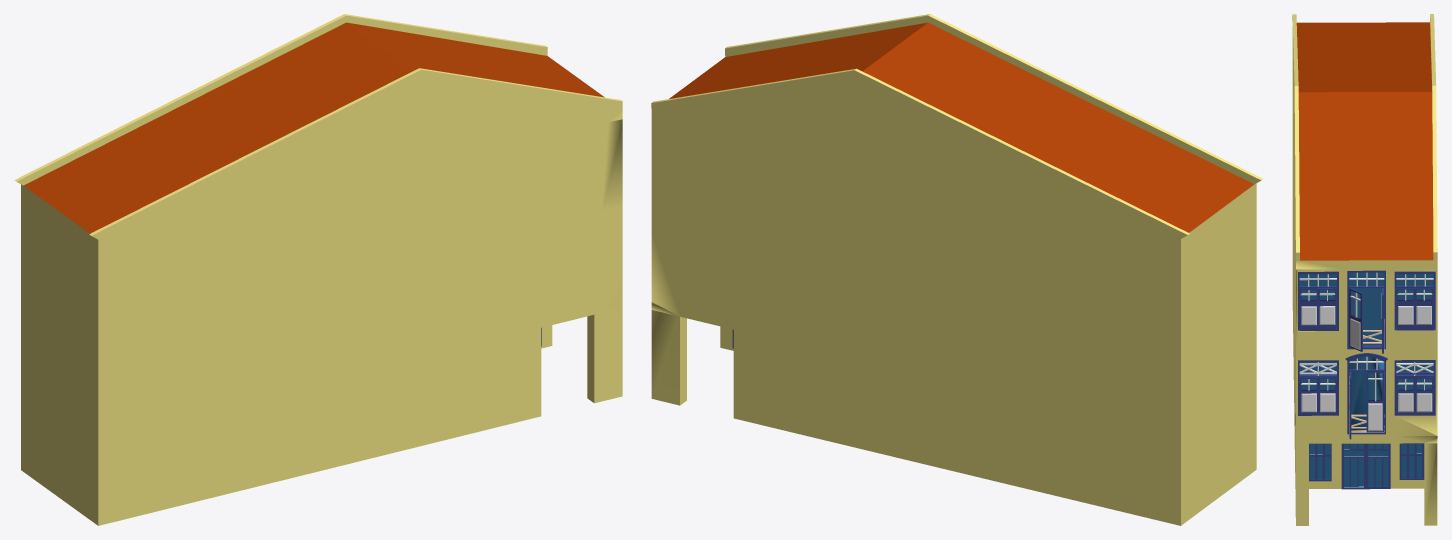
The model's file is yellow house.fbx.
The picture shows the model from 3 angles, left to right: view 1: azimuth 30°, elevation 25°; view 2: azimuth 150°, elevation 25°; view 3: azimuth 270°, elevation 25°; orthographic projection. The views are drawn at different scales.
Parts seen in each view (by area): view 1: yellow house; view 2: yellow house; view 3: yellow house.
Part boxes in pixels (left/top/right/bottom): yellow house: left=14, top=14, right=622, bottom=525; yellow house: left=651, top=14, right=1263, bottom=525; yellow house: left=1292, top=14, right=1437, bottom=525.
Bounding box in the file's own units: 1600 × 1049 × 395.
